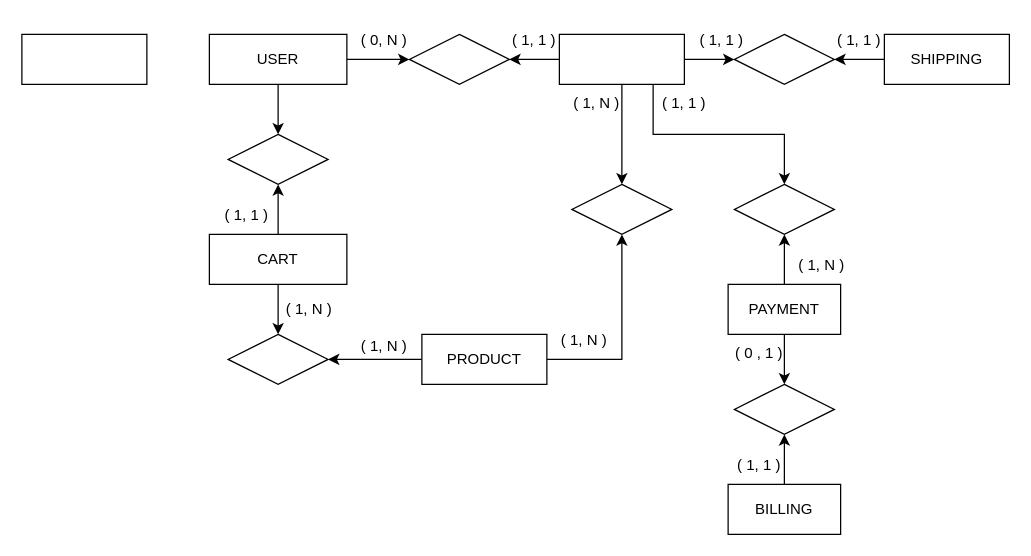
Image size: 1031x556. Some labels were removed from this diagram. The centre of each missing label's shape, as x and y in pixels:
"ADMIN" goes at [84,58].
"ORDER" goes at [621,58].
